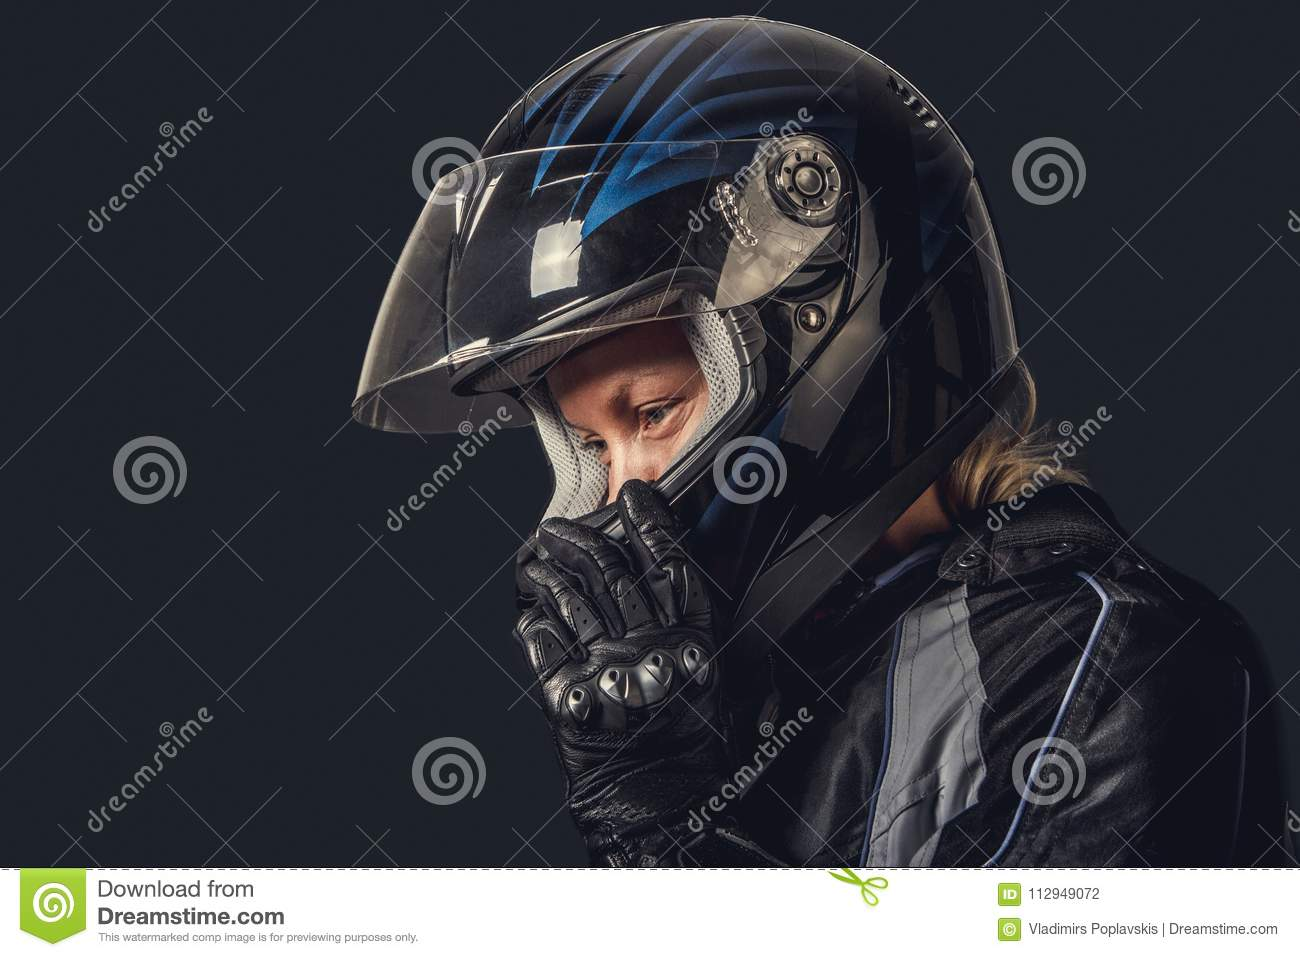helmet: (436, 42, 1010, 591)
